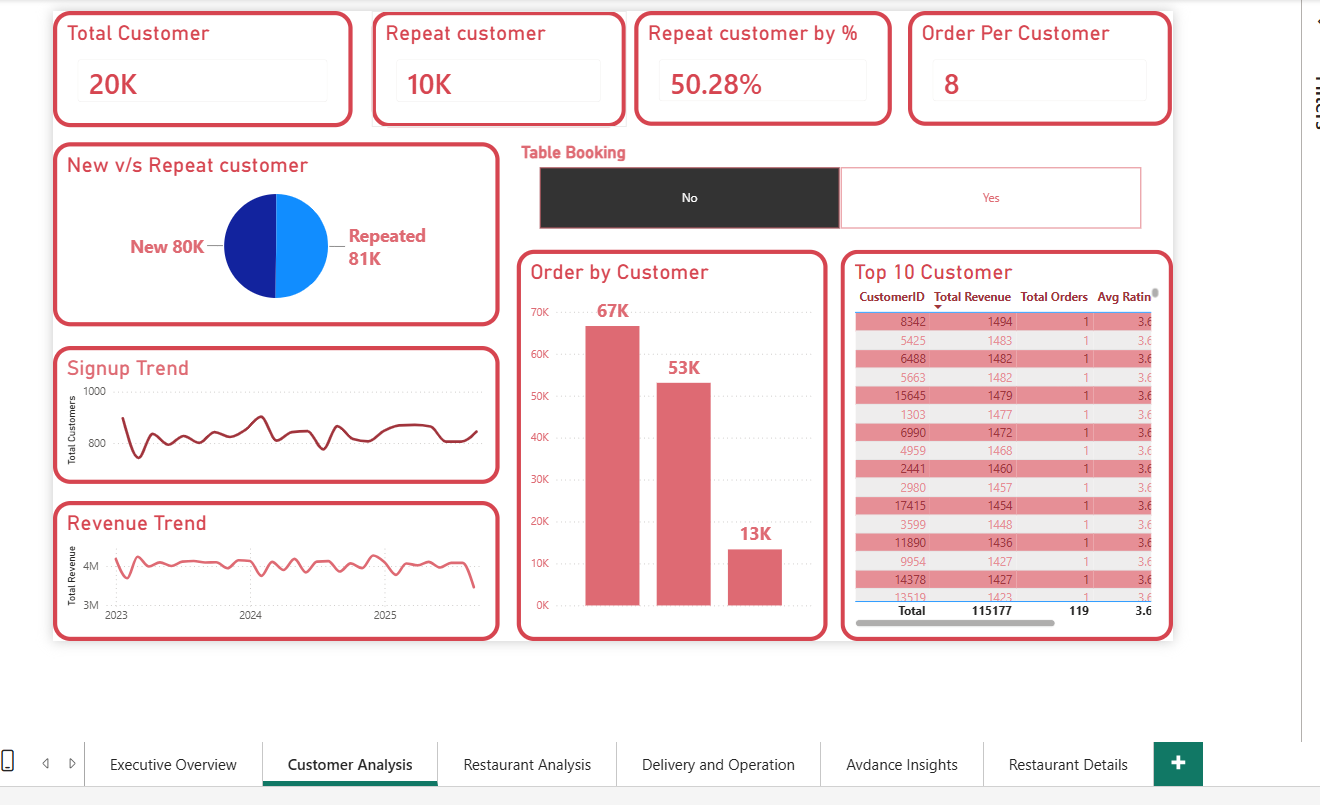

What the dashboard file says about the page in this screenshot:
{"tool":"powerbi","page":{"name":"Customer Analysis","canvas":[1280,720],"ordinal":1},"visuals":[{"type":"cardVisual","title":"Total Customer","fields":{"Data":["Orders.Total Customers"]},"box":[0,0,342.5,132.5],"z":0},{"type":"lineChart","title":"Revenue Trend","fields":{"Y":["Orders.Total Revenue"],"Category":["DateTable.Date.Variation.Date Hierarchy.Year","DateTable.Date.Variation.Date Hierarchy.Month"]},"box":[0,560,510,160],"z":1000},{"type":"lineChart","title":"Signup Trend","fields":{"Category":["Customers.SignupDate.Variation.Date Hierarchy.Year","Customers.SignupDate.Variation.Date Hierarchy.Month"],"Y":["Orders.Total Customers"]},"box":[0,382.5,510,157.5],"z":2000},{"type":"columnChart","title":"Order by Customer","fields":{"Category":["Customers.CustomerType"],"Y":["Orders.Total Orders"]},"box":[530,272.5,355,447.5],"z":3000},{"type":"pieChart","title":"New v/s Repeat customer","fields":{"Category":["Customers.RepeatedVsNew"],"Y":["Orders.Total Orders"]},"box":[0,150,510,210],"z":4000},{"type":"tableEx","title":"Top 10 Customer","fields":{"Values":["Orders.CustomerID","Orders.Total Revenue","Orders.Total Orders","Orders.Avg Rating","Customers.FilterCity"]},"box":[900,272.5,380,447.5],"z":5000},{"type":"cardVisual","title":"Repeat customer","fields":{"Data":["Orders.Repeat Customers"]},"box":[365,0,290,132.5],"z":6000},{"type":"cardVisual","title":"Repeat customer by %","fields":{"Data":["Orders.Repeat Customer %"]},"box":[665,0,294.3,131.4],"z":7000},{"type":"cardVisual","title":"Order Per Customer","fields":{"Data":["Orders.Orders Per Customer"]},"box":[977.5,0,301.4,131.4],"z":8000},{"type":"slicer","title":"Table Booking","fields":{"Values":["Restaurant.Book_Table_new"]},"box":[530,150,737.5,105],"z":9000},{"type":"actionButton","box":[0,0,100,40],"z":10000}]}

Visuals, with their boxes on the page's 1280x720 design canvas (x1, y1, x2, y2). These are canvas units, not pixel positions in the 1320x805 screenshot, which may show the page scaled, cropped or inside an application window:
"Total Customer" cardVisual: (x1=0, y1=0, x2=342, y2=132)
"Revenue Trend" lineChart: (x1=0, y1=560, x2=510, y2=720)
"Signup Trend" lineChart: (x1=0, y1=382, x2=510, y2=540)
"Order by Customer" columnChart: (x1=530, y1=272, x2=885, y2=720)
"New v/s Repeat customer" pieChart: (x1=0, y1=150, x2=510, y2=360)
"Top 10 Customer" tableEx: (x1=900, y1=272, x2=1280, y2=720)
"Repeat customer" cardVisual: (x1=365, y1=0, x2=655, y2=132)
"Repeat customer by %" cardVisual: (x1=665, y1=0, x2=959, y2=131)
"Order Per Customer" cardVisual: (x1=978, y1=0, x2=1279, y2=131)
"Table Booking" slicer: (x1=530, y1=150, x2=1268, y2=255)
actionButton: (x1=0, y1=0, x2=100, y2=40)
